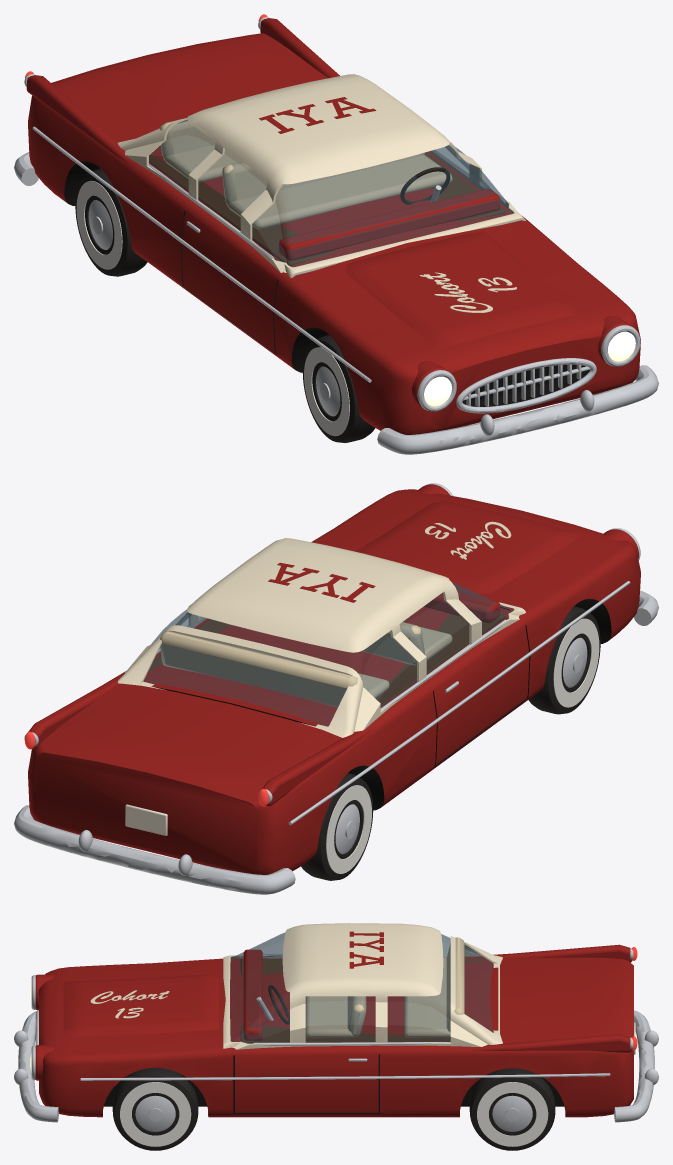
The model's file is 1950s-car.glb.
3 renders of one model, top to bottom at view 1: azimuth 30°, elevation 25°; view 2: azimuth 150°, elevation 25°; view 3: azimuth 270°, elevation 25°, orthographic. The views are drawn at different scales.
Visible parts, largest first — view 1: body, roof, glass, fin, bar, cushion, tire, whitewall, box, hubcap, lens; view 2: body, roof, glass, fin, bar, cushion, tire, whitewall, box, hubcap, plate; view 3: body, roof, glass, fin, bar, cushion, tire, whitewall, hubcap, box.
Boxes of the visible parts, x1,y1,x2,y2 form: body: (28,33,640,434); roof: (117,74,525,312); glass: (149,120,521,276); fin: (26,18,576,349); bar: (14,17,658,454); cushion: (160,118,452,229); tire: (75,169,374,442); whitewall: (76,180,349,436); box: (149,152,505,265); hubcap: (88,200,340,416); lens: (424,331,635,406); body: (28,484,640,874); roof: (118,521,525,737); glass: (143,581,513,726); fin: (28,501,582,806); bar: (14,483,658,894); cushion: (160,622,452,707); tire: (301,606,600,880); whitewall: (326,618,599,873); box: (148,613,505,706); hubcap: (335,637,587,854); plate: (125,804,167,835); body: (35,931,633,1117); roof: (90,923,502,1049); glass: (230,932,493,1043); fin: (63,944,632,1052); bar: (14,948,658,1122); cushion: (305,937,464,1037); tire: (112,1067,555,1150); whitewall: (120,1082,548,1146); hubcap: (135,1095,532,1131); box: (240,959,483,1043).
Size of the model in its own units: 2.09 by 1.45 by 5.42.
